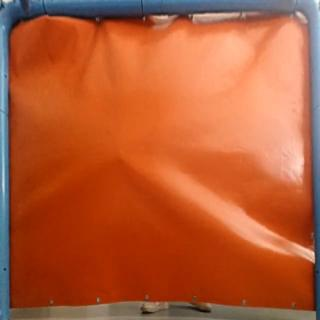Hit-hRxx: (115, 150, 132, 165)
